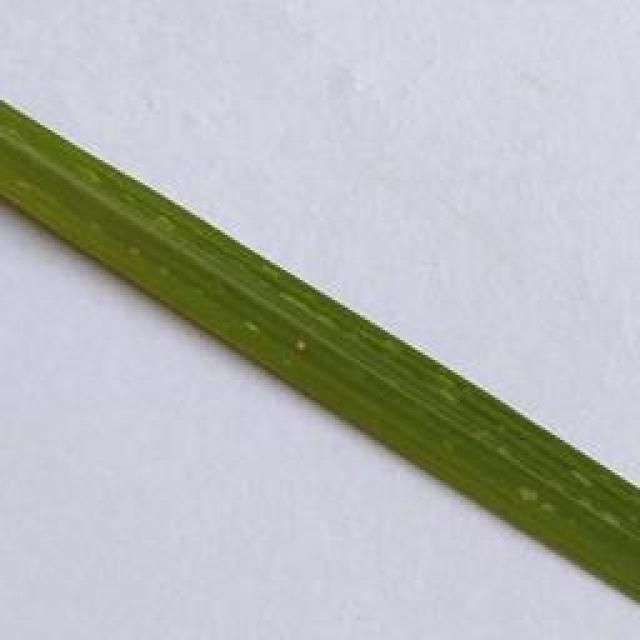Unhealthy: (289, 339, 308, 360)
